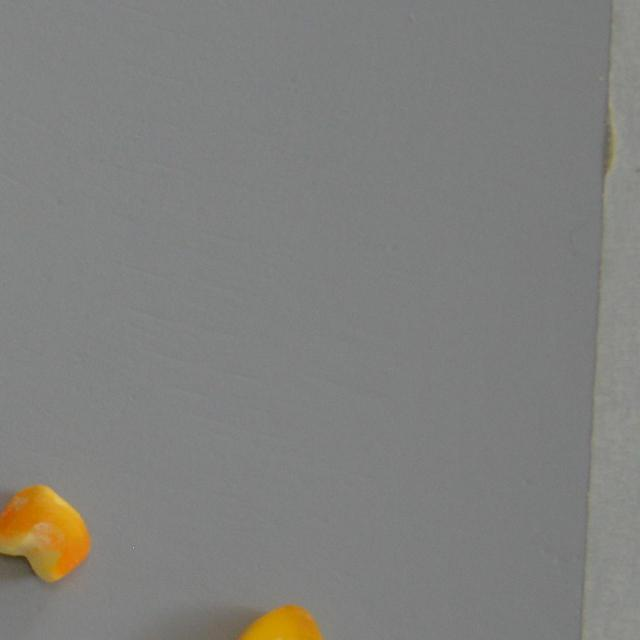no_canjicado: (228, 604, 326, 640)
pelicula: (0, 484, 91, 583)
